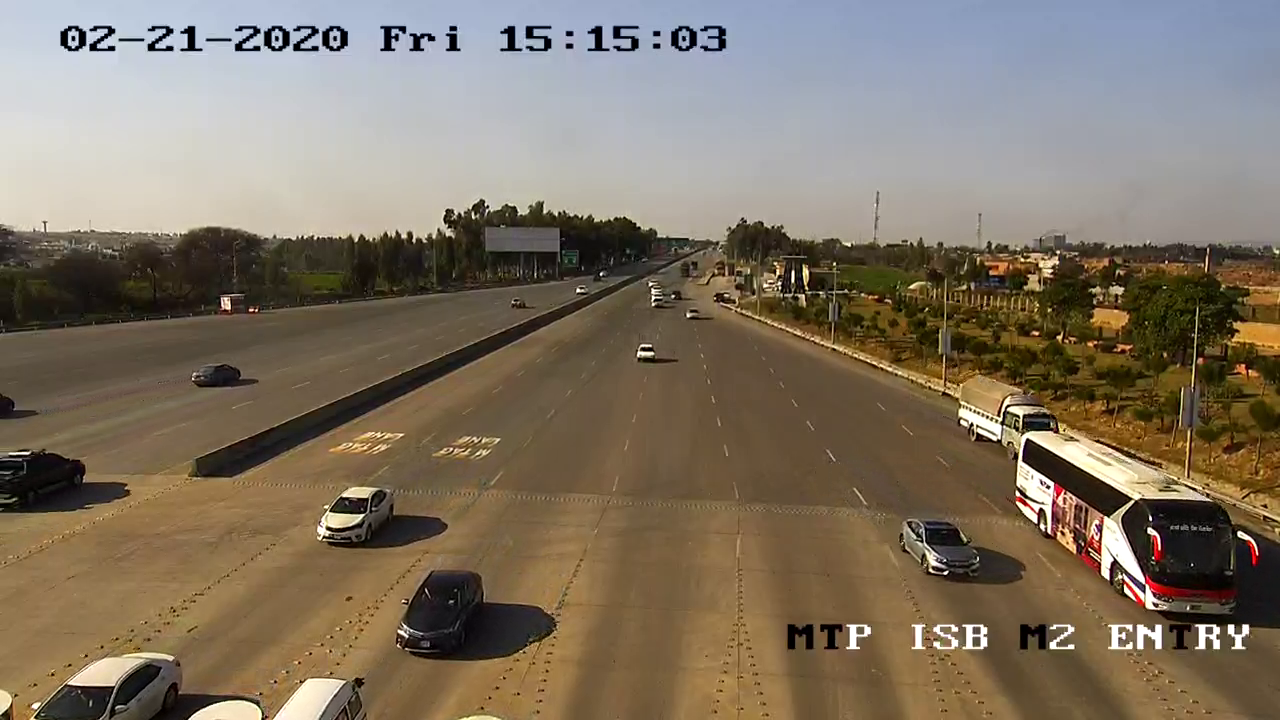f1: (391, 562, 496, 664), (894, 506, 991, 588), (311, 474, 399, 552)
f4: (1019, 437, 1261, 624)
f5: (954, 375, 1056, 459)
